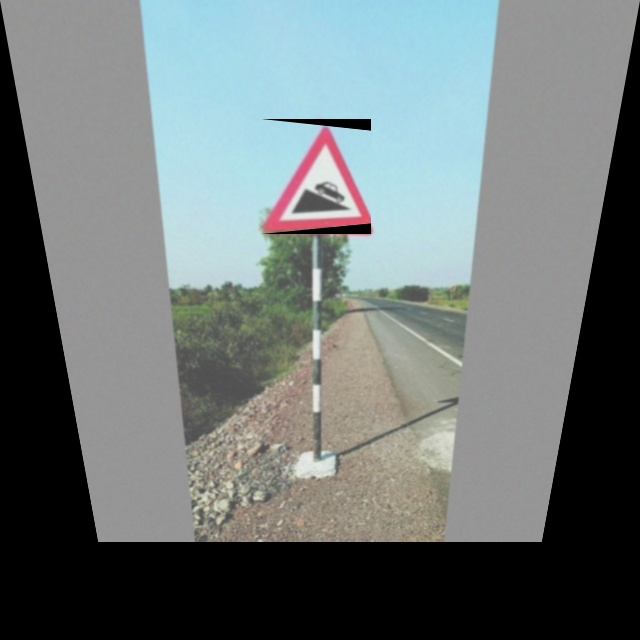Steep_Descent: (261, 119, 371, 234)
